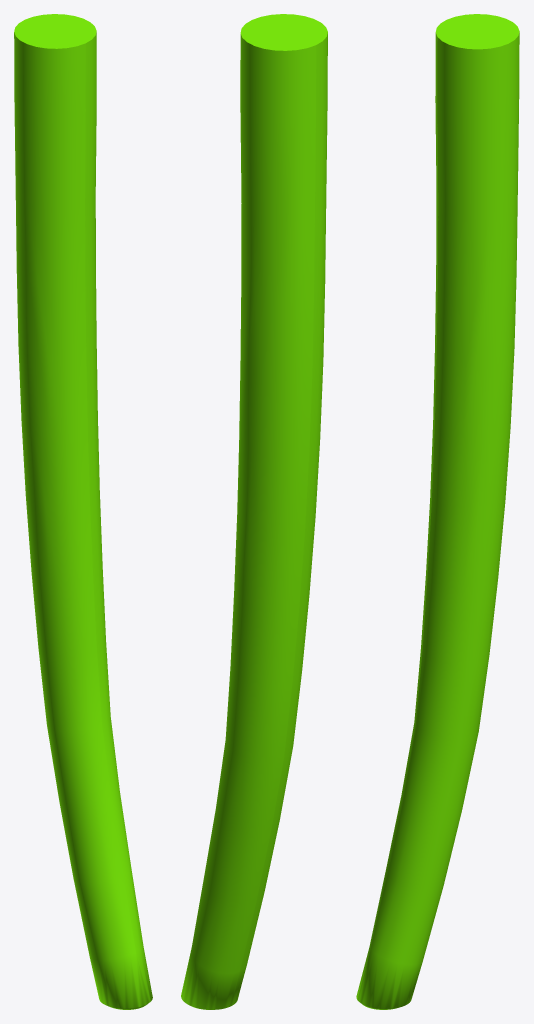
The model's file is chair_027_08.obj.
3 renders of one model, left to right at view 1: azimuth 30°, elevation 25°; view 2: azimuth 210°, elevation 25°; view 3: azimuth 270°, elevation 25°, orthographic. The views are drawn at different scales.
Size of the model in its own units: 39.61 by 428 by 66.18.
